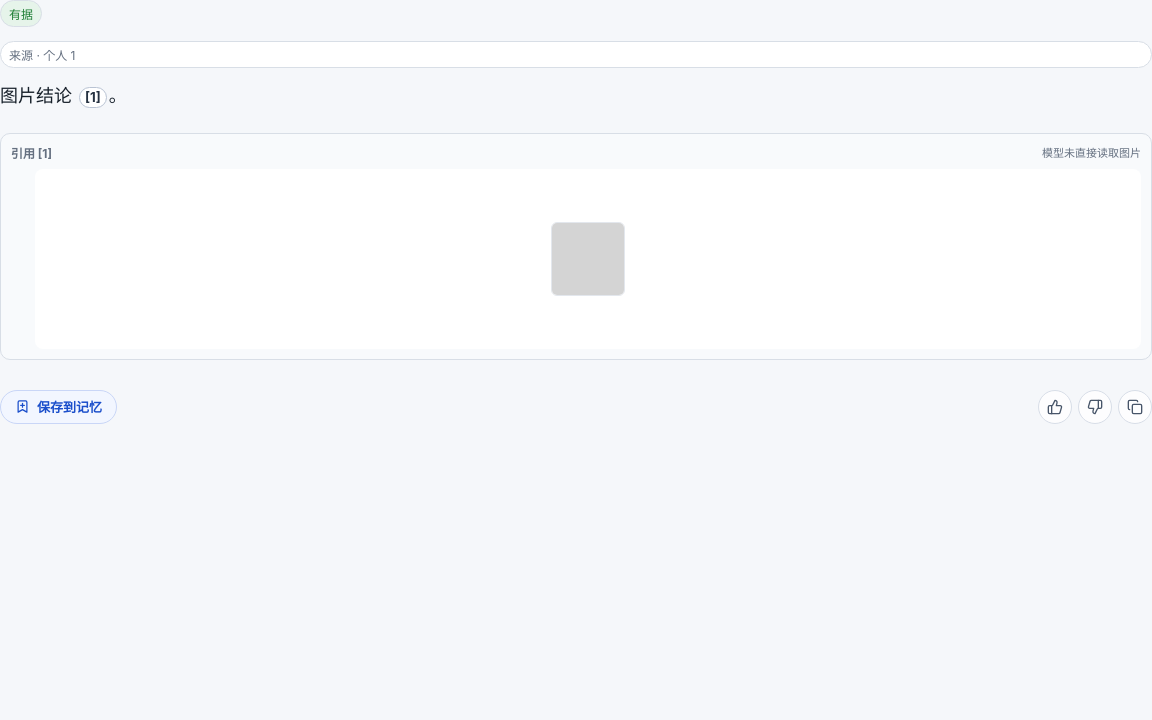
Test case: 纯图 chunk 锚点（起始元素即附图）与图片元素引用一样隐藏解析描述
Click the button "[1]".
click(93, 98)  # box [79,87,107,108]
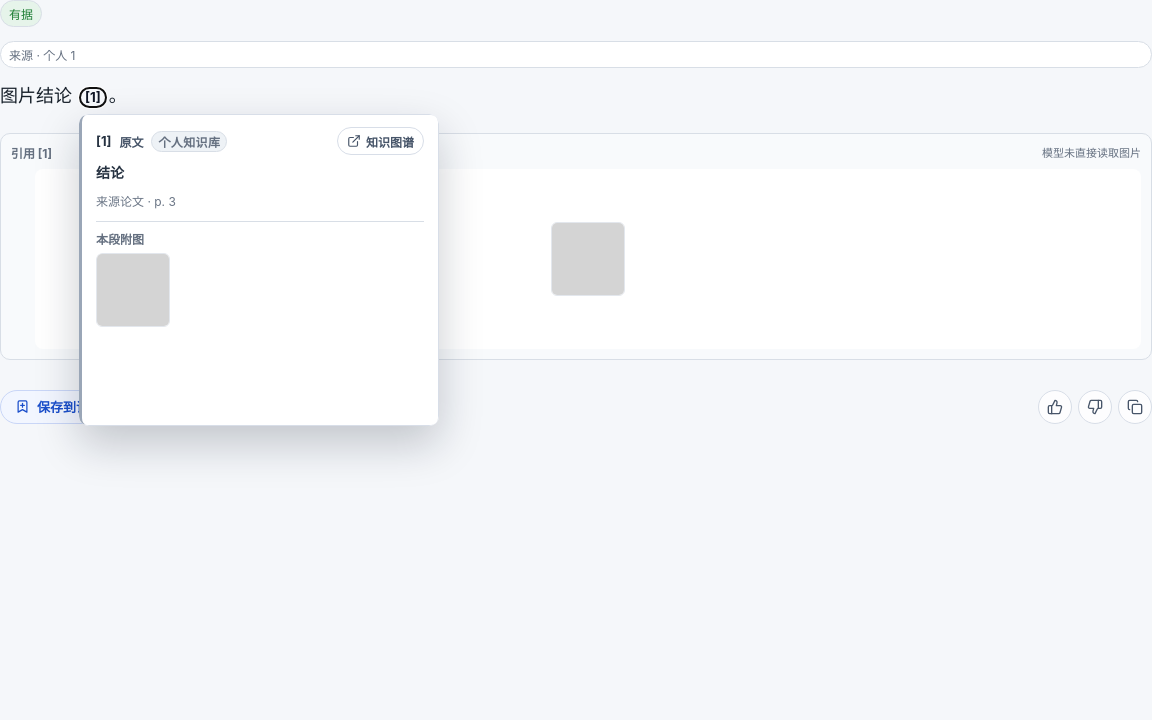
Result: the dialog is shown at [79,114,439,426]
